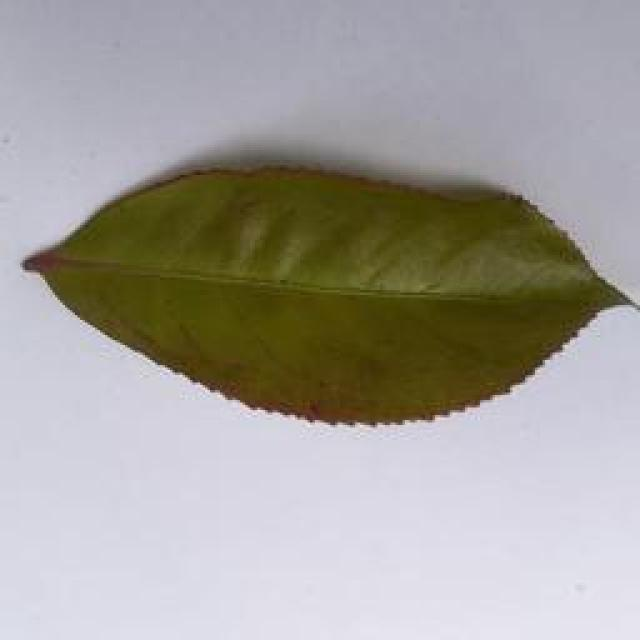Red Leaf Spot: (27, 159, 640, 440)
